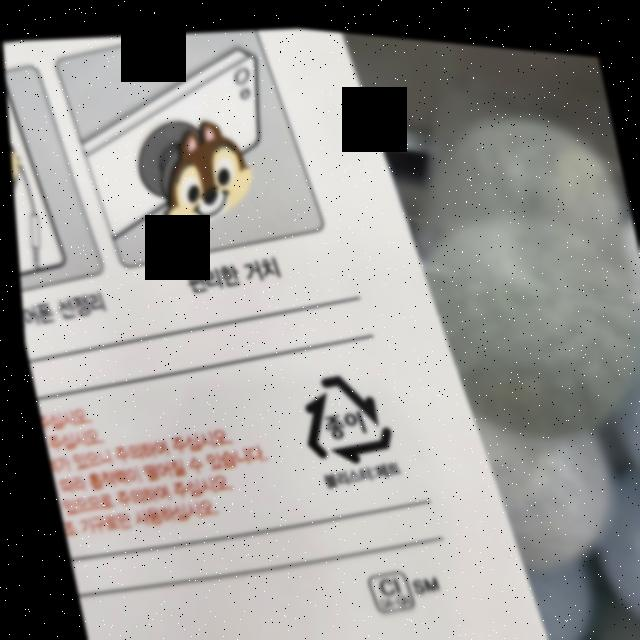Paper: (284, 357, 396, 468)
